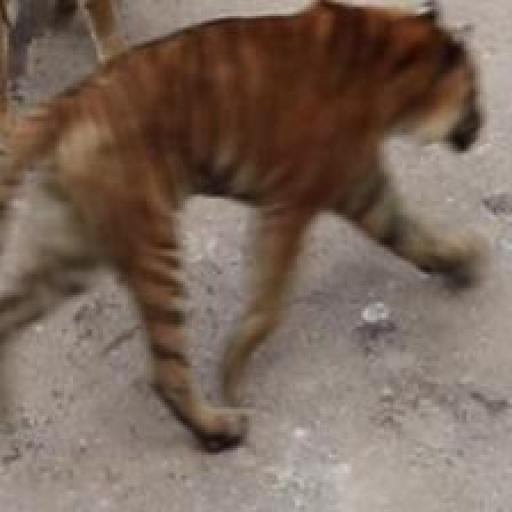Tiger: (16, 14, 497, 484)
